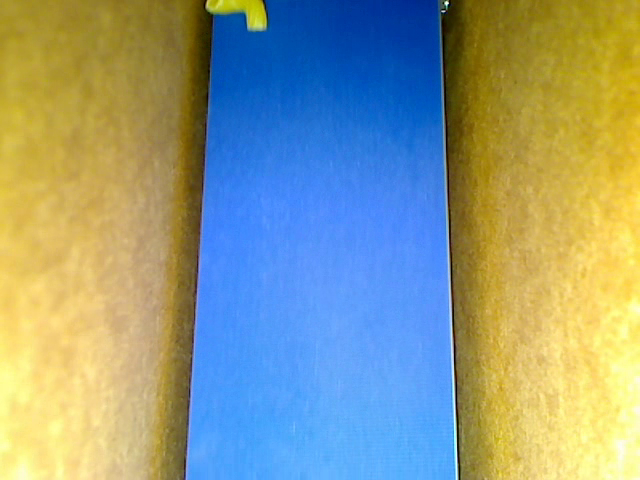elbow: (204, 1, 268, 33)
